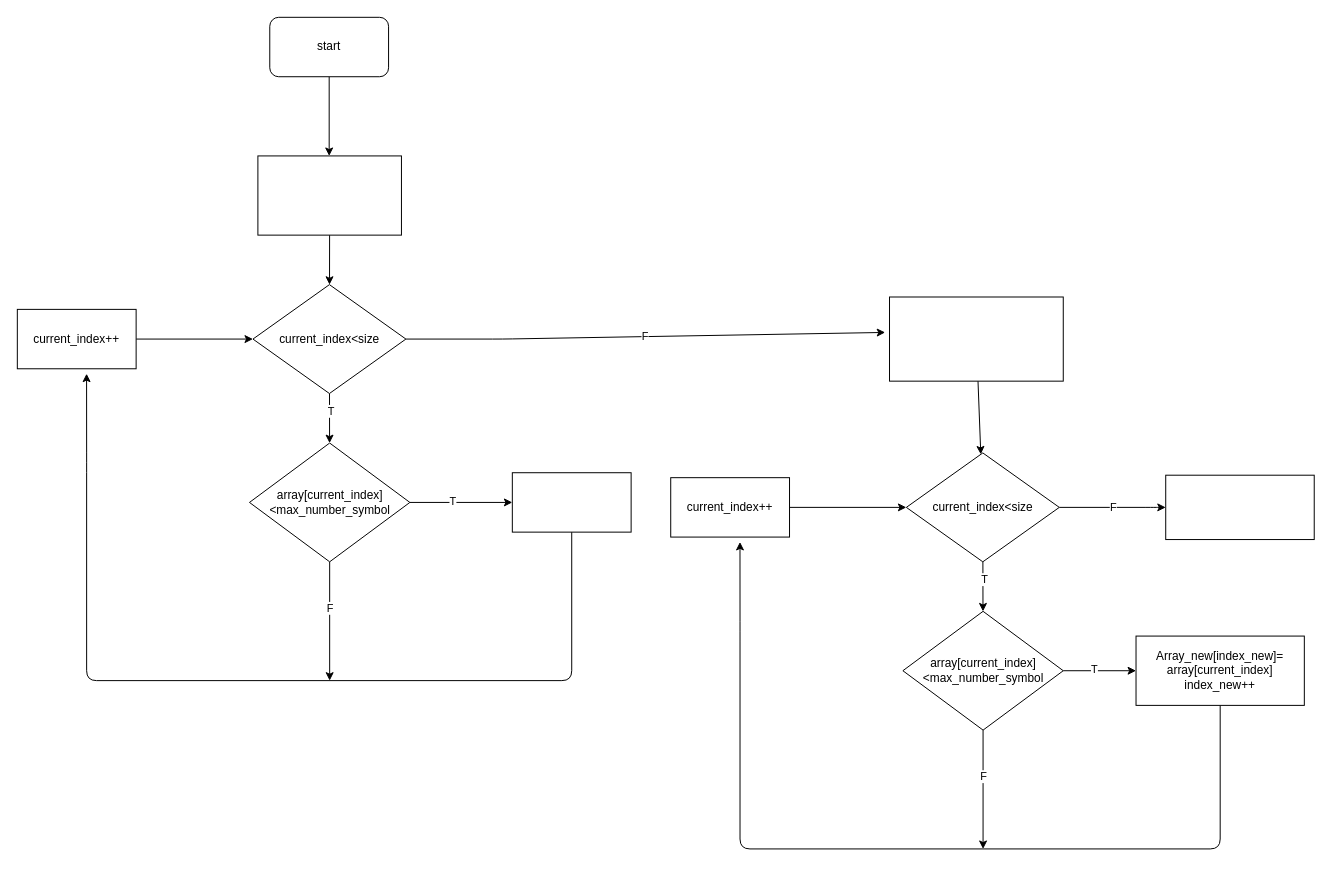
Image size: 1332x874. Some labels were removed from this diagram. Each missing label, with the centre of its shape:
array=[randome] size=10 max_number_symbol=3 current_index=0: the point at 329,195
Array_new[new_array_size] current_index=0 index_new=0: the point at 976,338
new_array_size++: the point at 571,502
Print Array_new[]: the point at 1239,507
